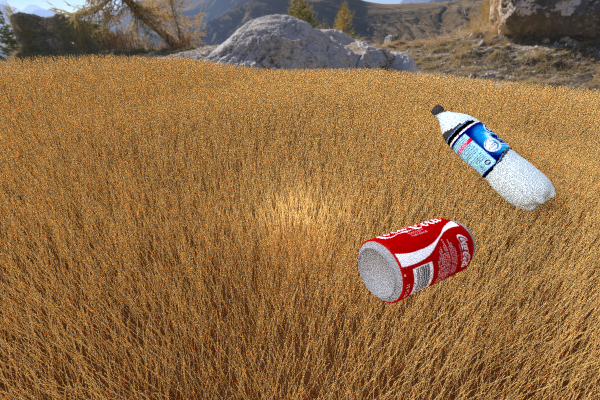bottle: (431, 104, 555, 211)
can: (358, 217, 475, 303)
